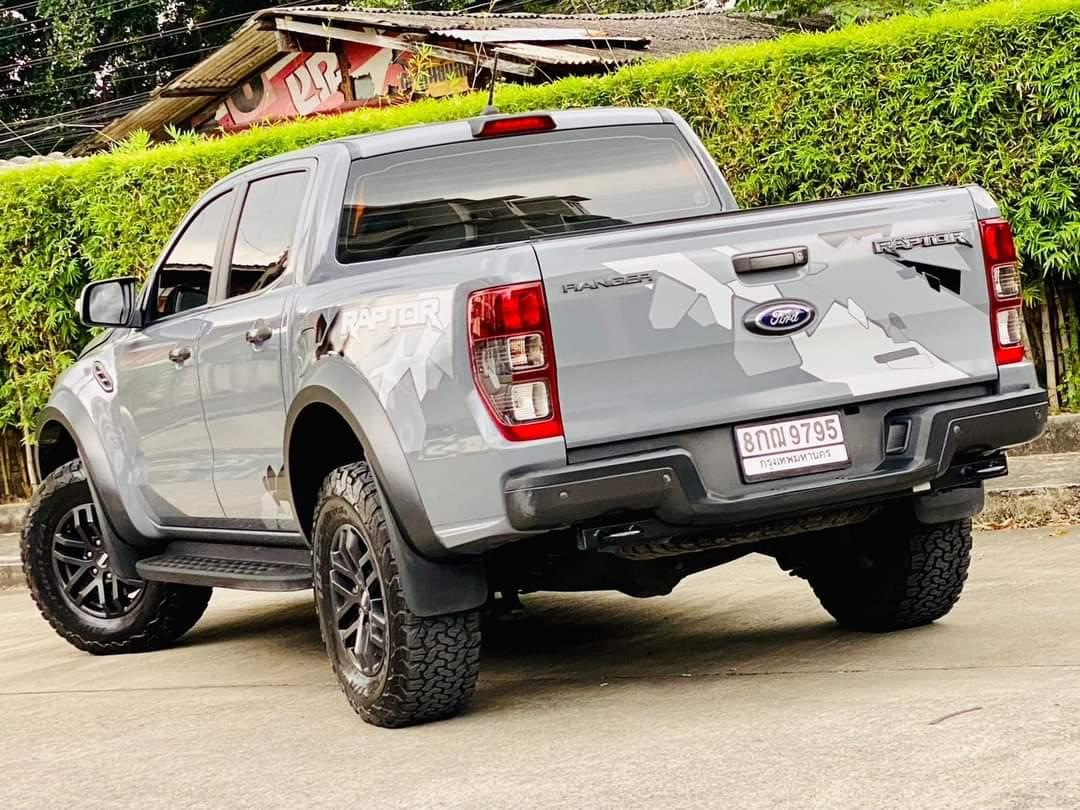license-plate: (732, 400, 852, 481)
